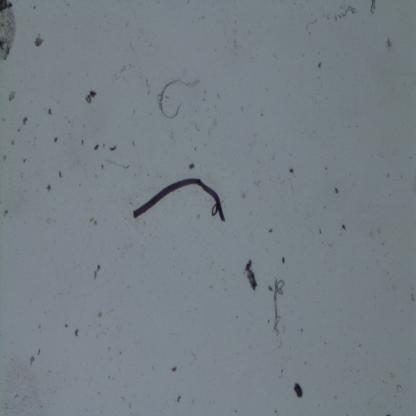Air bubble: (212, 204, 218, 216)
Background material: (156, 74, 203, 121), (0, 0, 20, 65), (270, 274, 285, 335), (242, 260, 259, 290), (102, 156, 131, 170), (340, 4, 358, 19), (291, 382, 305, 399), (207, 116, 218, 135), (92, 262, 101, 281), (305, 18, 318, 31), (84, 91, 96, 104), (384, 37, 394, 52), (35, 32, 45, 47), (396, 380, 404, 397), (369, 0, 378, 15), (6, 90, 16, 103), (108, 142, 118, 152), (90, 214, 98, 226), (28, 354, 36, 366), (259, 106, 266, 118), (239, 191, 248, 200), (252, 178, 262, 186), (193, 122, 201, 132), (232, 36, 238, 49), (22, 116, 28, 127), (322, 12, 330, 20), (269, 153, 277, 161), (78, 138, 85, 147), (409, 293, 416, 302), (188, 162, 196, 169), (97, 310, 104, 318), (288, 167, 295, 175), (3, 208, 9, 217), (94, 142, 100, 151), (47, 182, 52, 192), (74, 328, 79, 338), (239, 106, 246, 113), (268, 283, 272, 295), (273, 408, 279, 416), (171, 365, 177, 373), (317, 61, 323, 69), (196, 214, 202, 221), (46, 216, 52, 223), (119, 66, 126, 72), (47, 107, 52, 115), (131, 140, 136, 148), (177, 394, 182, 402), (58, 170, 63, 178), (36, 347, 41, 355), (147, 83, 150, 95), (128, 400, 132, 409), (232, 409, 238, 415), (96, 390, 102, 396), (384, 411, 391, 416), (170, 132, 175, 139), (9, 141, 16, 146), (368, 230, 372, 238), (341, 224, 346, 230), (2, 154, 7, 160), (132, 107, 136, 114), (282, 257, 286, 264), (334, 14, 338, 21), (334, 187, 338, 194), (216, 94, 221, 99), (120, 396, 125, 401), (47, 369, 52, 374), (16, 373, 21, 378), (194, 146, 198, 152), (66, 120, 72, 124), (54, 137, 58, 143), (100, 164, 104, 170), (318, 228, 322, 234), (386, 172, 390, 178), (391, 374, 395, 379), (65, 323, 69, 328), (210, 284, 214, 289), (268, 229, 273, 233), (381, 241, 384, 247), (23, 159, 27, 163), (14, 394, 18, 398), (267, 319, 270, 324), (235, 316, 238, 320), (119, 350, 122, 354), (325, 167, 328, 171), (40, 405, 44, 408), (378, 229, 380, 234), (323, 206, 326, 209), (410, 156, 412, 160), (388, 194, 392, 196), (386, 272, 390, 274), (108, 375, 110, 379), (412, 288, 414, 291), (224, 288, 226, 290), (308, 32, 310, 34), (108, 347, 110, 349)
Microfibre: (129, 174, 227, 225)
